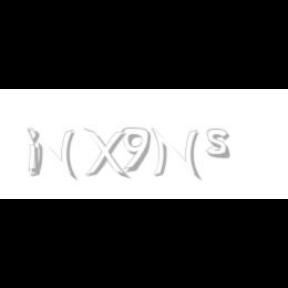9: (122, 128, 150, 172)
N: (26, 128, 76, 180), (150, 128, 199, 180)
X: (83, 128, 127, 180)
i: (27, 128, 43, 176)
s: (206, 128, 234, 160)
